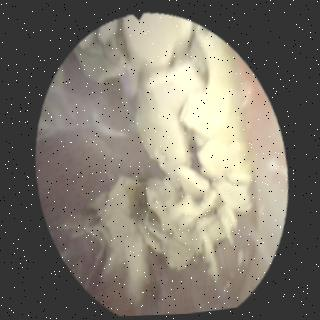stone: (57, 16, 251, 304)
tissue: (34, 64, 280, 317)
